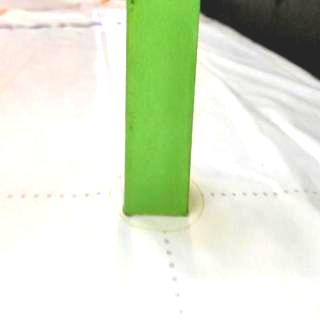greenbox: (124, 1, 198, 218)
